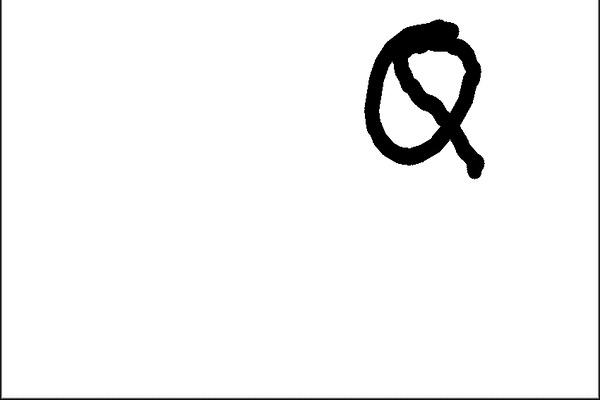Q: (352, 11, 487, 181)
